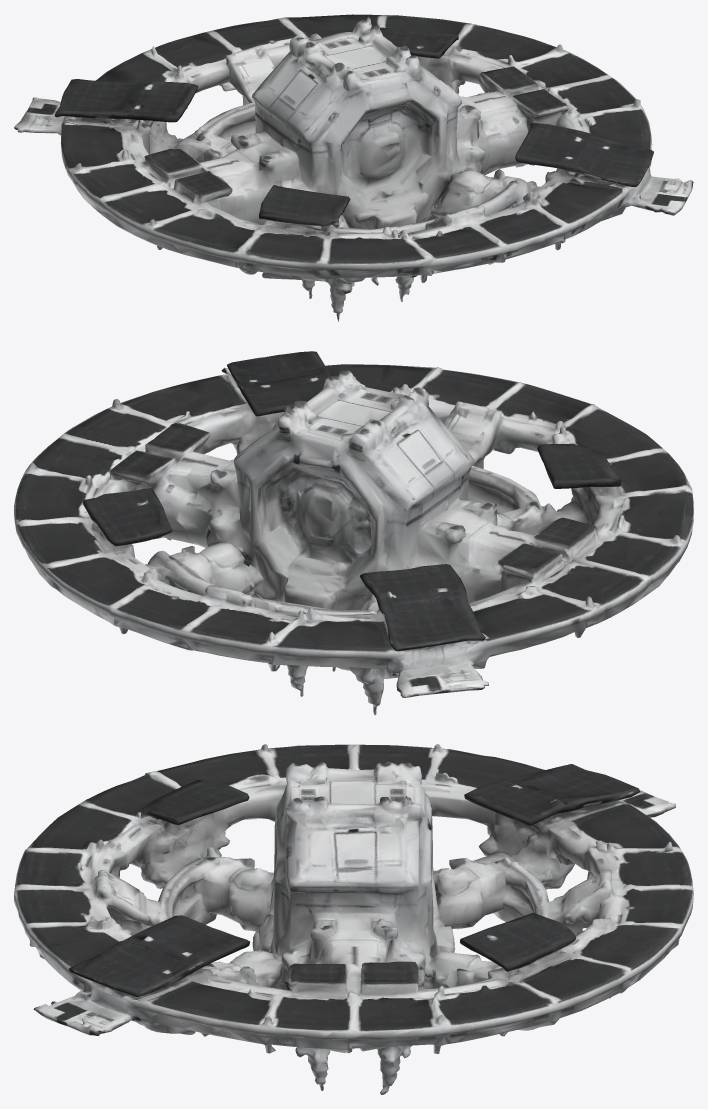
File: apex-cosmos-estacion.glb
3 renders of one model, top to bottom at view 1: azimuth 30°, elevation 25°; view 2: azimuth 150°, elevation 25°; view 3: azimuth 270°, elevation 25°, orthographic. The views are drawn at different scales.
Bounding box in the file's own units: 2 × 0.9818 × 2.
Materials: 1 (1 with a texture image).
